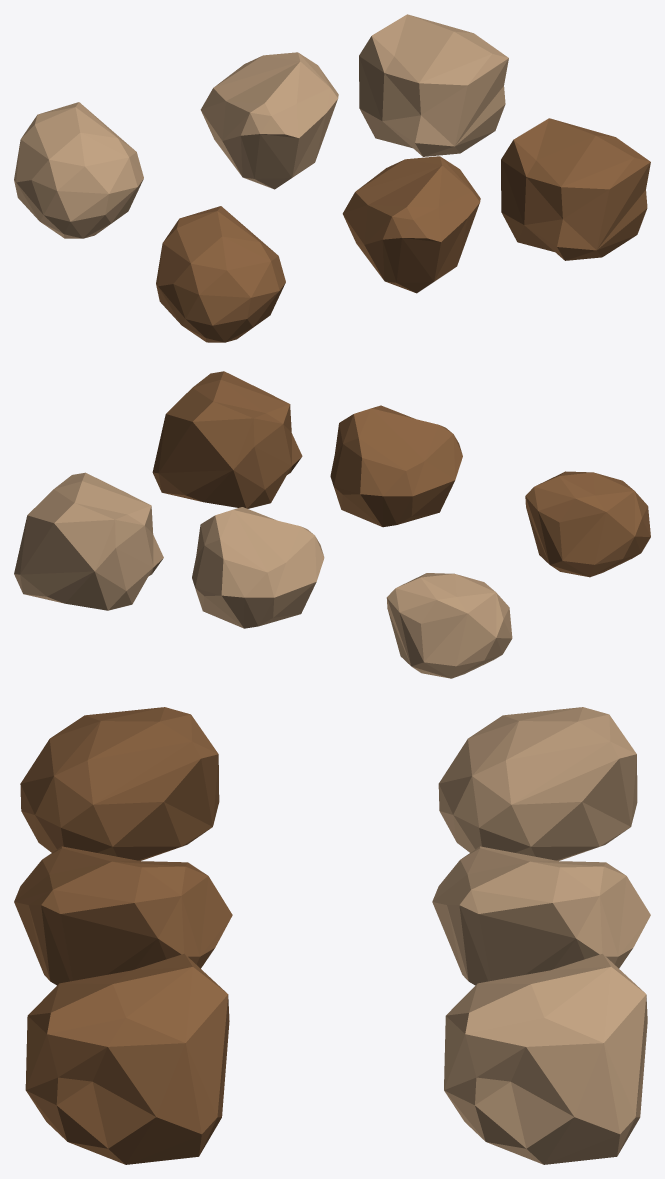
Rendered from ROCKS.fbx.
The picture shows the model from 3 angles, top to bottom: view 1: azimuth 30°, elevation 25°; view 2: azimuth 150°, elevation 25°; view 3: azimuth 270°, elevation 25°; orthographic projection. The views are drawn at different scales.
Visible parts, largest first — view 1: Rock.002, Rock.005, Rock.000, Rock.003, Rock.001, Rock.004; view 2: Rock.002, Rock.005, Rock.000, Rock.003, Rock.001, Rock.004; view 3: Rock.005, Rock.002, Rock.004, Rock.001, Rock.003, Rock.000.
Boxes of the visible parts, bbox=[...] form: Rock.002: bbox=[501, 118, 650, 260]; Rock.005: bbox=[359, 14, 508, 156]; Rock.000: bbox=[342, 156, 480, 293]; Rock.003: bbox=[200, 52, 338, 189]; Rock.001: bbox=[156, 206, 285, 342]; Rock.004: bbox=[14, 102, 143, 238]; Rock.002: bbox=[152, 371, 302, 508]; Rock.005: bbox=[14, 472, 163, 610]; Rock.000: bbox=[330, 405, 462, 527]; Rock.003: bbox=[192, 507, 324, 628]; Rock.001: bbox=[525, 471, 650, 577]; Rock.004: bbox=[386, 573, 512, 678]; Rock.005: bbox=[444, 953, 647, 1164]; Rock.002: bbox=[25, 953, 229, 1164]; Rock.004: bbox=[438, 707, 637, 860]; Rock.001: bbox=[20, 707, 219, 860]; Rock.003: bbox=[432, 846, 650, 985]; Rock.000: bbox=[14, 846, 232, 985].
Bounding box in the file's own units: 8.35 × 2.05 × 6.57.
